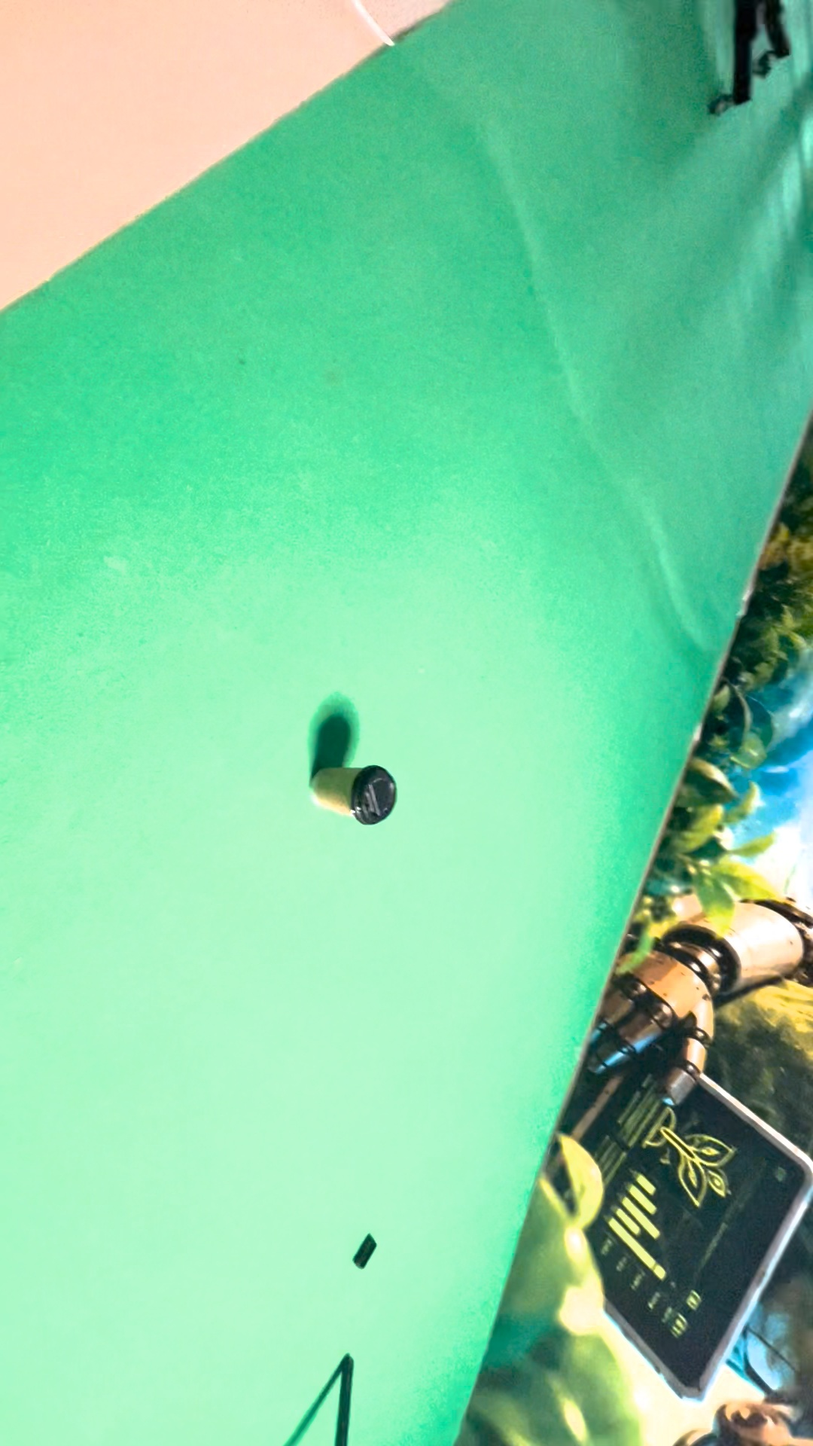cup: (444, 545, 529, 958)
